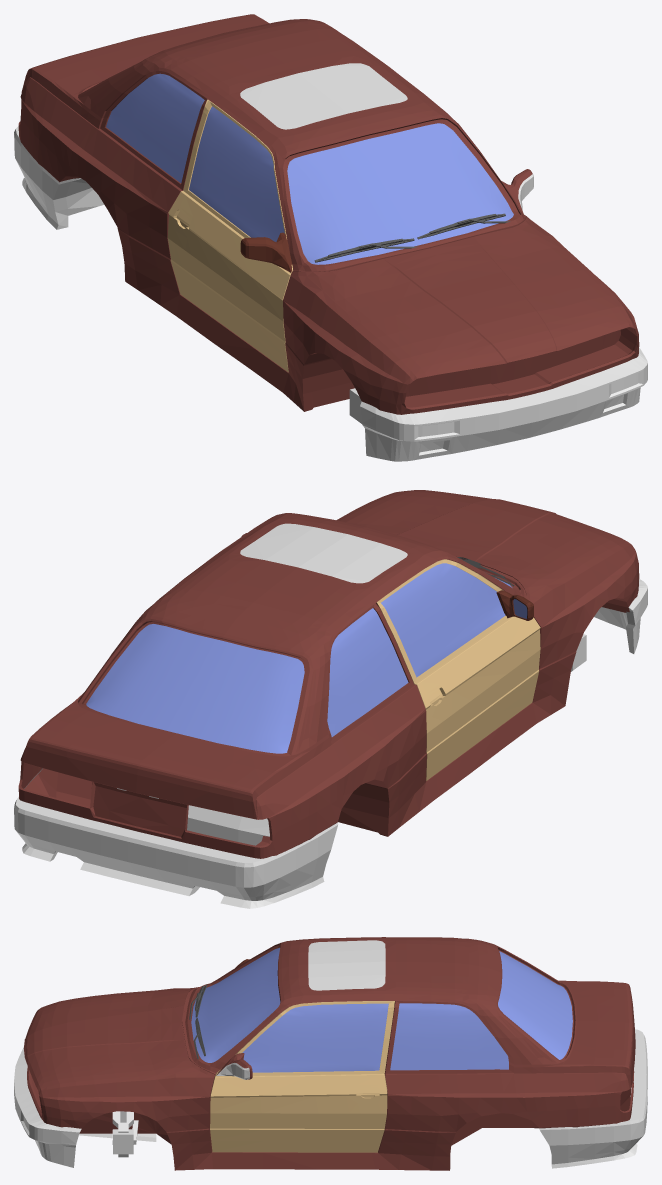
File: Car Interior.fbx
3 views of the same model, one above another, from view 1: azimuth 30°, elevation 25°; view 2: azimuth 150°, elevation 25°; view 3: azimuth 270°, elevation 25° (orthographic). The views are drawn at different scales.
Parts seen in each view (by area): view 1: Car, Window Front, Window Right 1, Window Right 2, wiper Right; view 2: Car, Window Back, Window Right 1, Window Right 2; view 3: Car, Window Left 1, Window Left 2, Window Front, Window Back.
Part boxes in pixels (bbox=[...]): Car: bbox=[14, 14, 647, 461]; Window Front: bbox=[287, 123, 513, 264]; Window Right 1: bbox=[189, 106, 284, 241]; Window Right 2: bbox=[106, 73, 204, 182]; wiper Right: bbox=[314, 238, 417, 262]; Car: bbox=[14, 490, 647, 908]; Window Back: bbox=[86, 624, 304, 753]; Window Right 1: bbox=[381, 563, 505, 677]; Window Right 2: bbox=[327, 608, 408, 736]; Car: bbox=[14, 937, 647, 1170]; Window Left 1: bbox=[242, 1003, 388, 1072]; Window Left 2: bbox=[390, 1003, 508, 1070]; Window Front: bbox=[191, 947, 280, 1062]; Window Back: bbox=[498, 951, 572, 1059].
Size of the model in its own units: 175 by 120 by 430.
